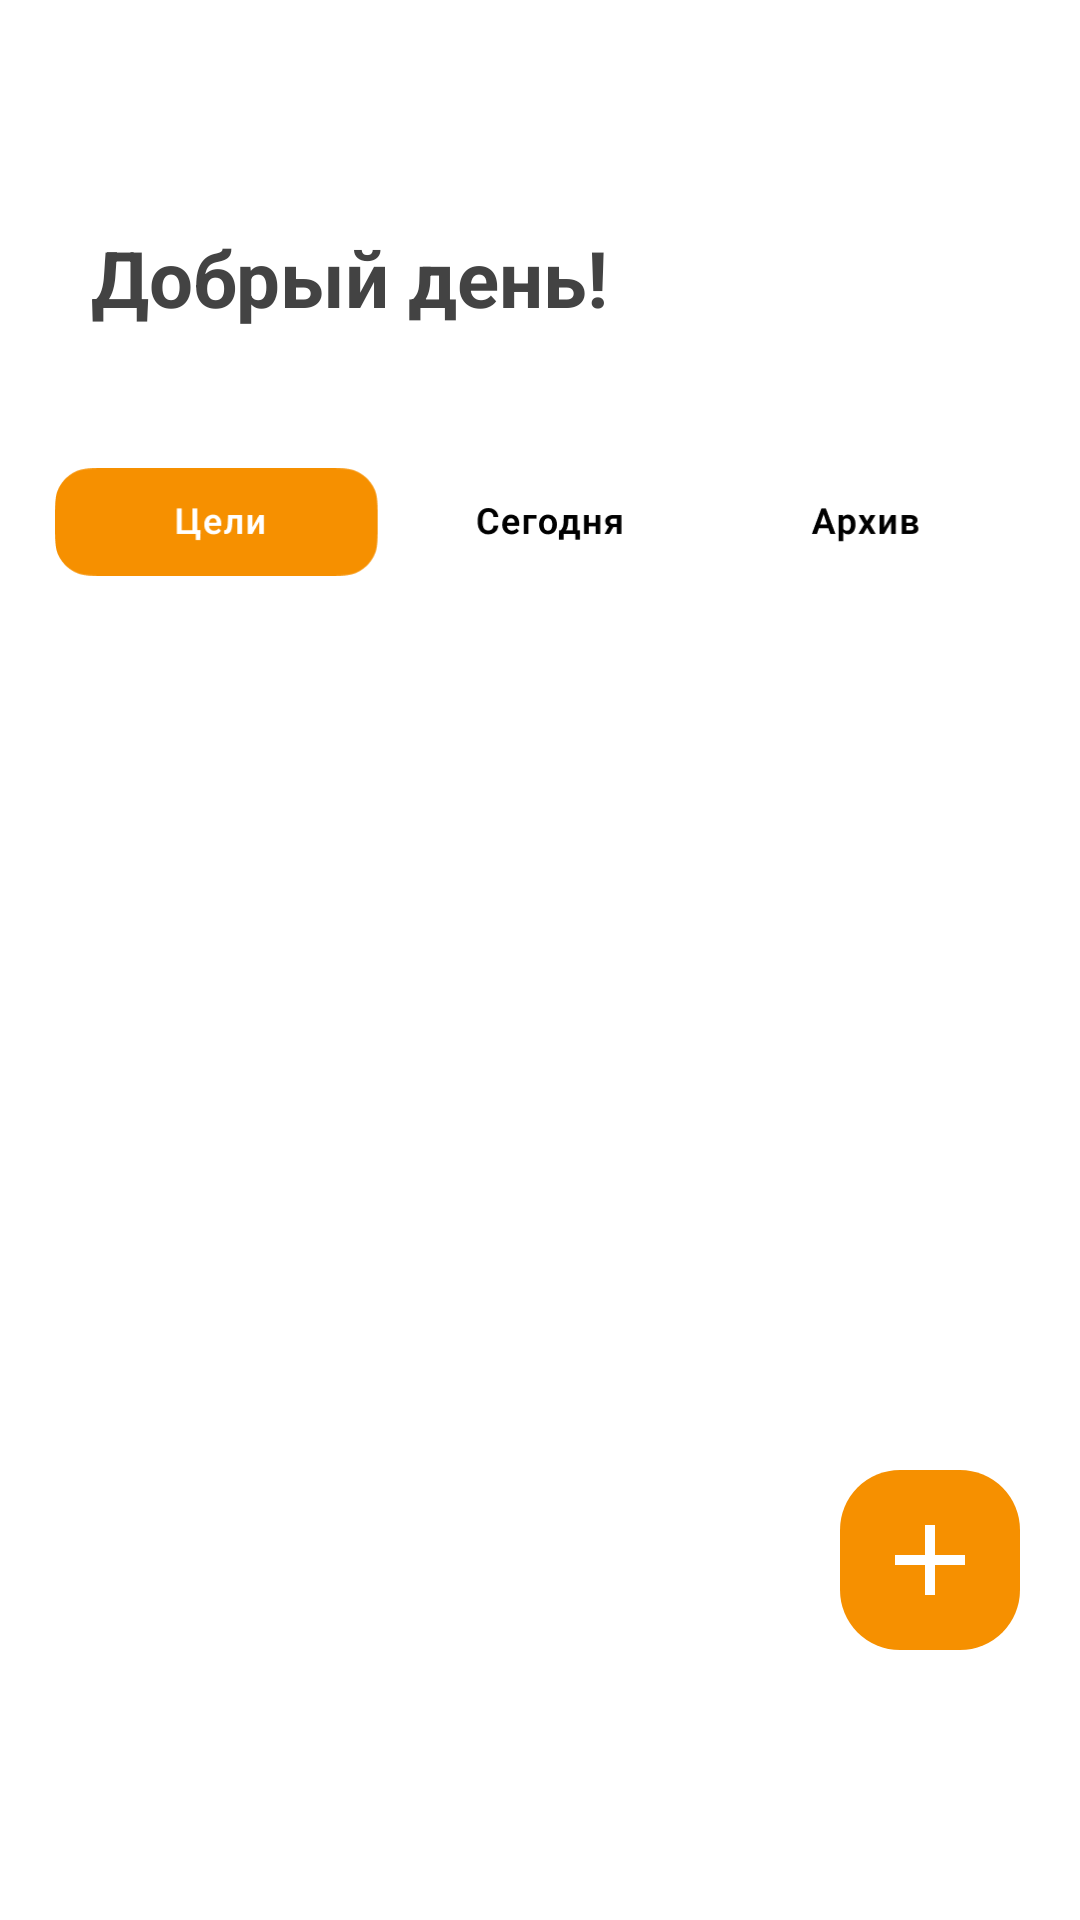

Screen size 1080 x 1920. Icon name, then its box in pixels as (x1, y1, x2, y2):
Создать цель: (840, 1470, 1020, 1650)
